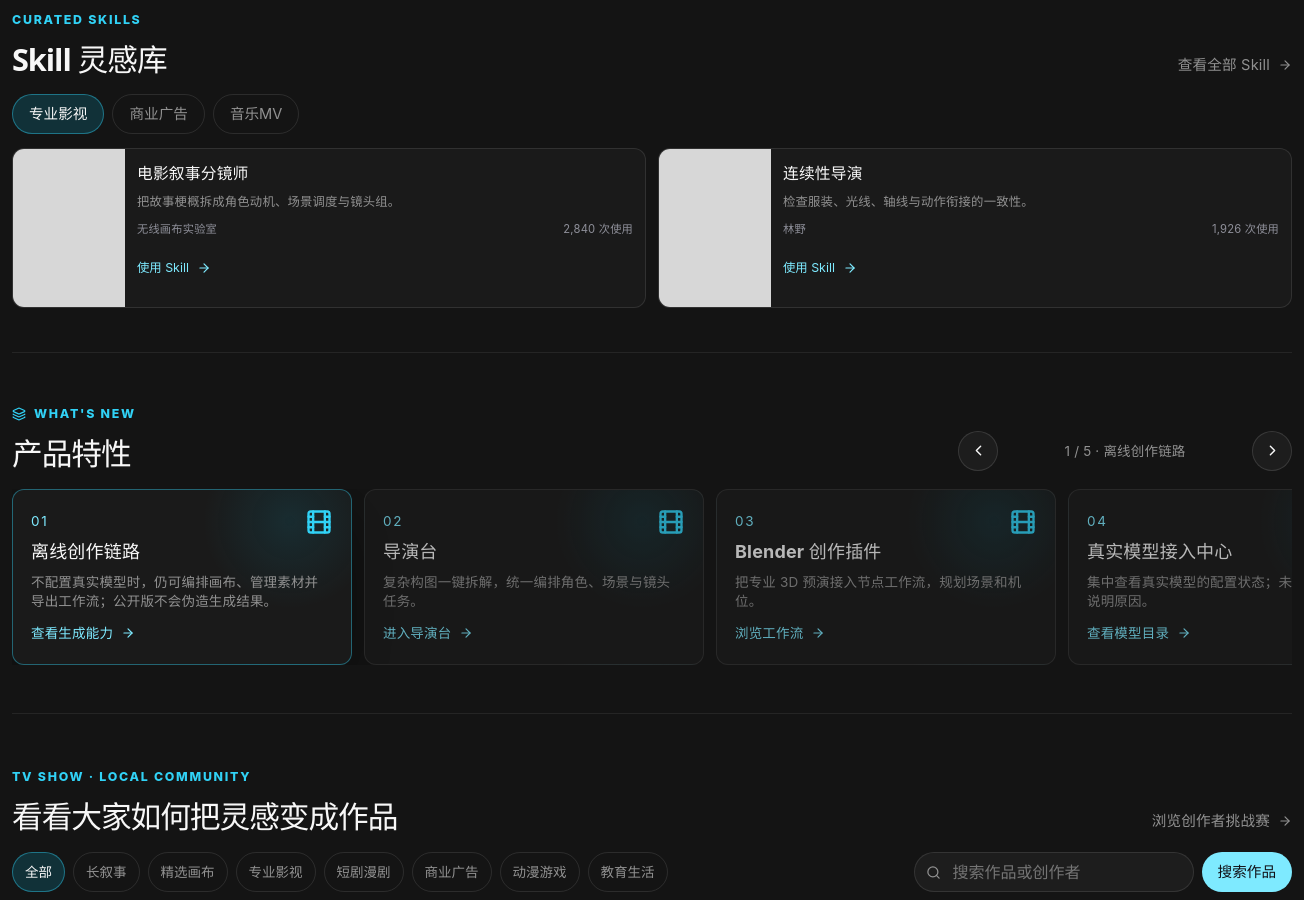
Scenario: platform home sections › cycles through five linked product feature cards
This screenshot has width=1304, height=900.
(page scrolled)
Check: the text "1 / 5 · 离线创作链路" is shown, box x1=1064 y1=443 x2=1186 y2=459
Click the button named "下一张特性". click: (1272, 451)
box: x1=1252 y1=431 x2=1292 y2=471
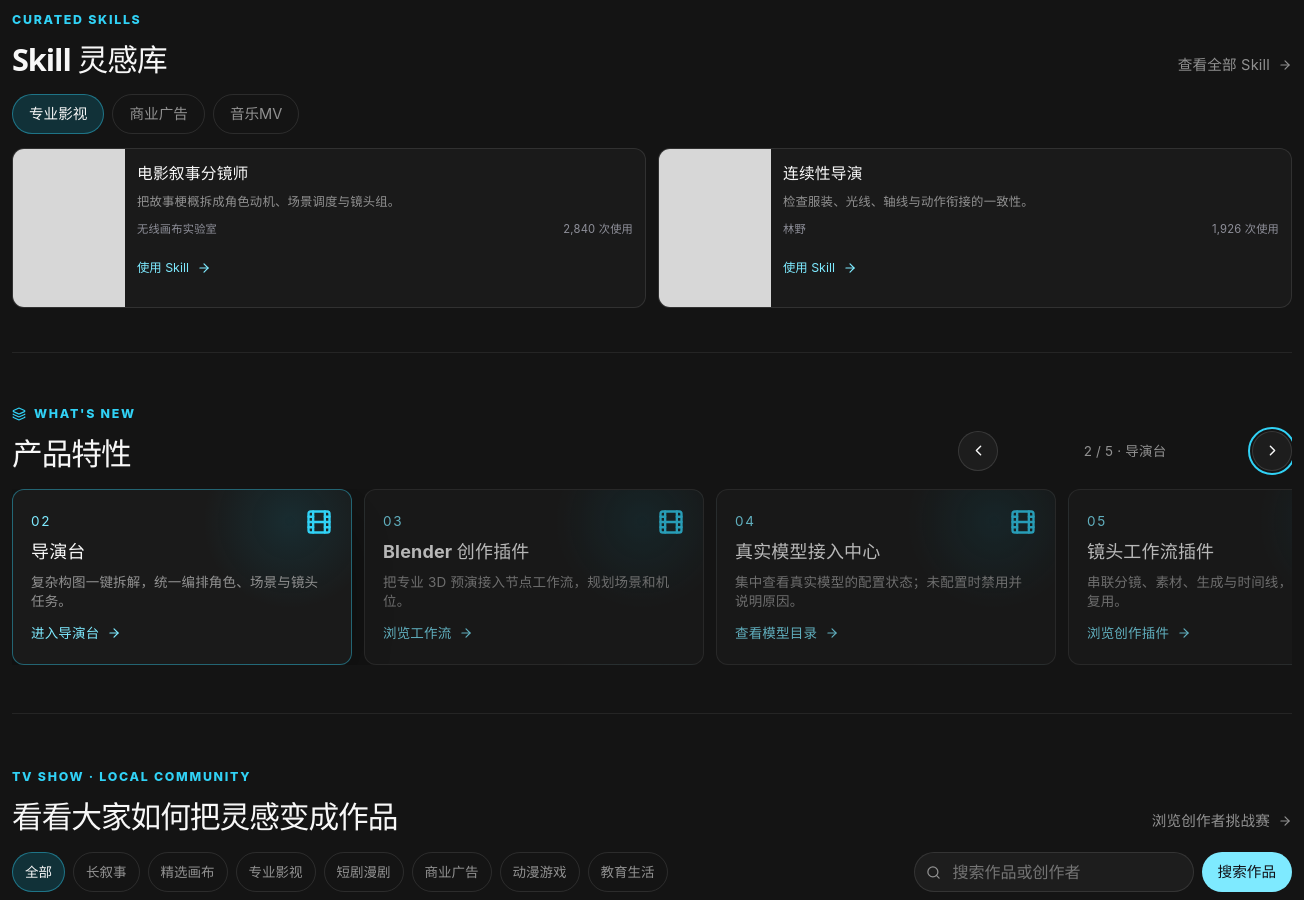
Check: the text "2 / 5 · 导演台" is shown, box x1=1084 y1=443 x2=1166 y2=459
Click the button named "上一张特性". click: (978, 451)
box: x1=958 y1=431 x2=998 y2=471
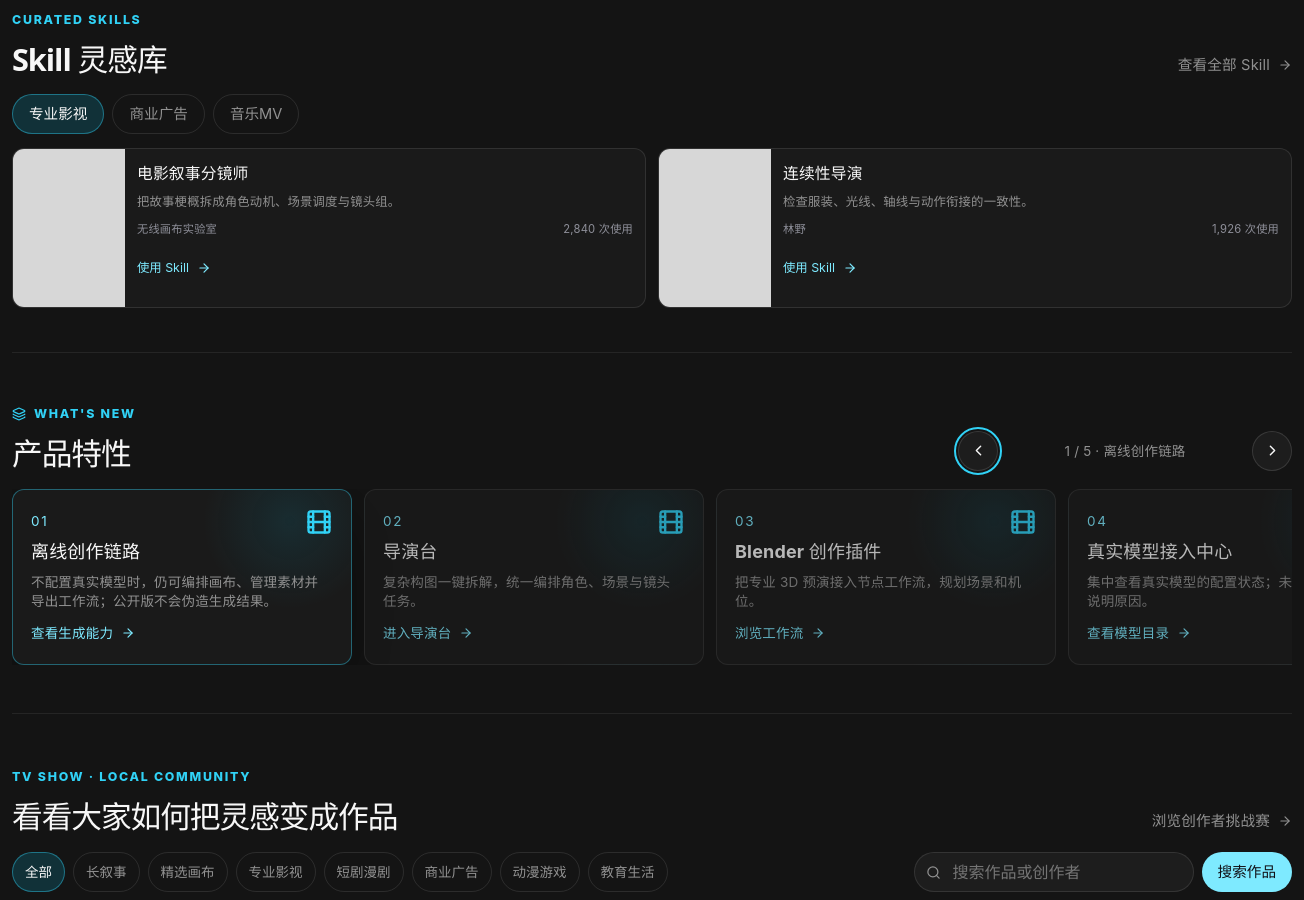
Check: the text "1 / 5 · 离线创作链路" is shown, box x1=1064 y1=443 x2=1186 y2=459
